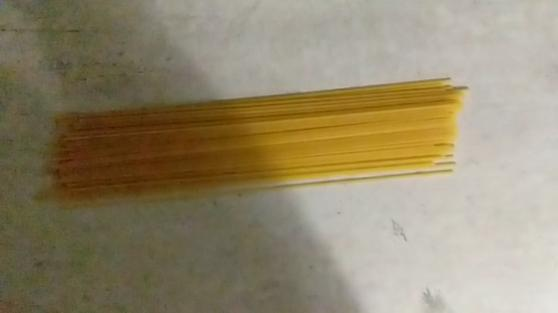spaghetti: (17, 65, 487, 216)
